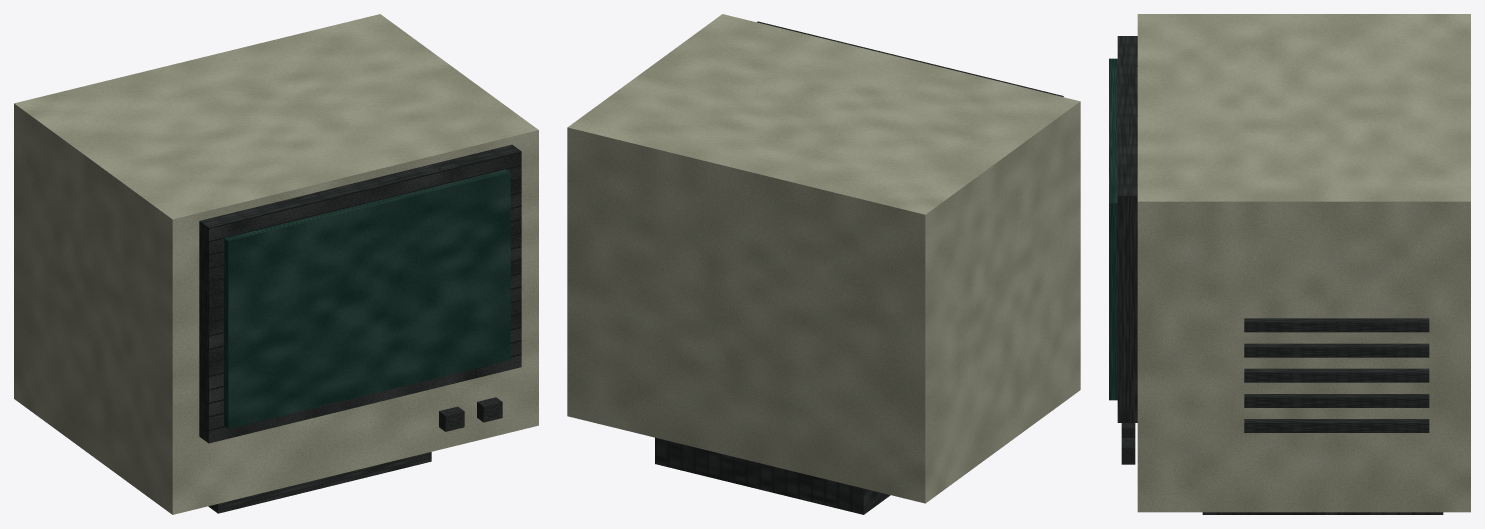
File: CRTMonitor.glb
The picture shows the model from 3 angles, left to right: view 1: azimuth 30°, elevation 25°; view 2: azimuth 150°, elevation 25°; view 3: azimuth 270°, elevation 25°; orthographic projection. The views are drawn at different scales.
Parts seen in each view (by area): view 1: CRTMonitor; view 2: CRTMonitor; view 3: CRTMonitor.
Part boxes in pixels (bbox=[...]): CRTMonitor: bbox=[14, 14, 538, 514]; CRTMonitor: bbox=[567, 14, 1080, 514]; CRTMonitor: bbox=[1109, 14, 1470, 514].
Size of the model in its own units: 0.49 by 0.42 by 0.391.
3 materials, 3 textured.
